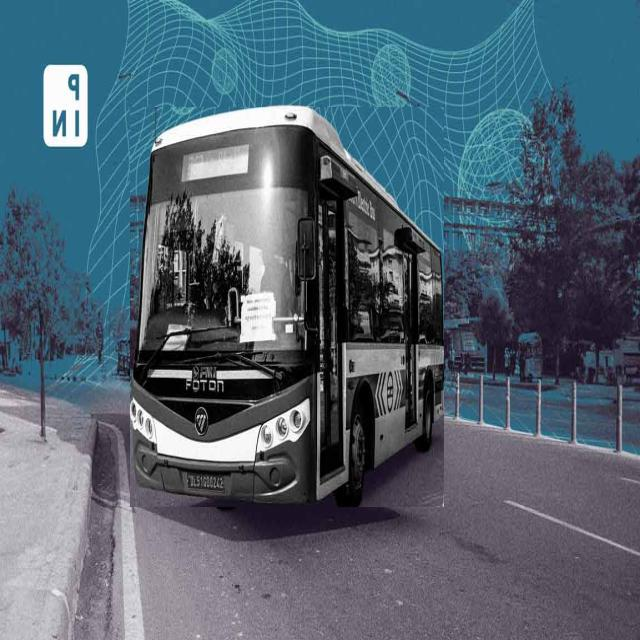bus: (130, 107, 444, 507)
